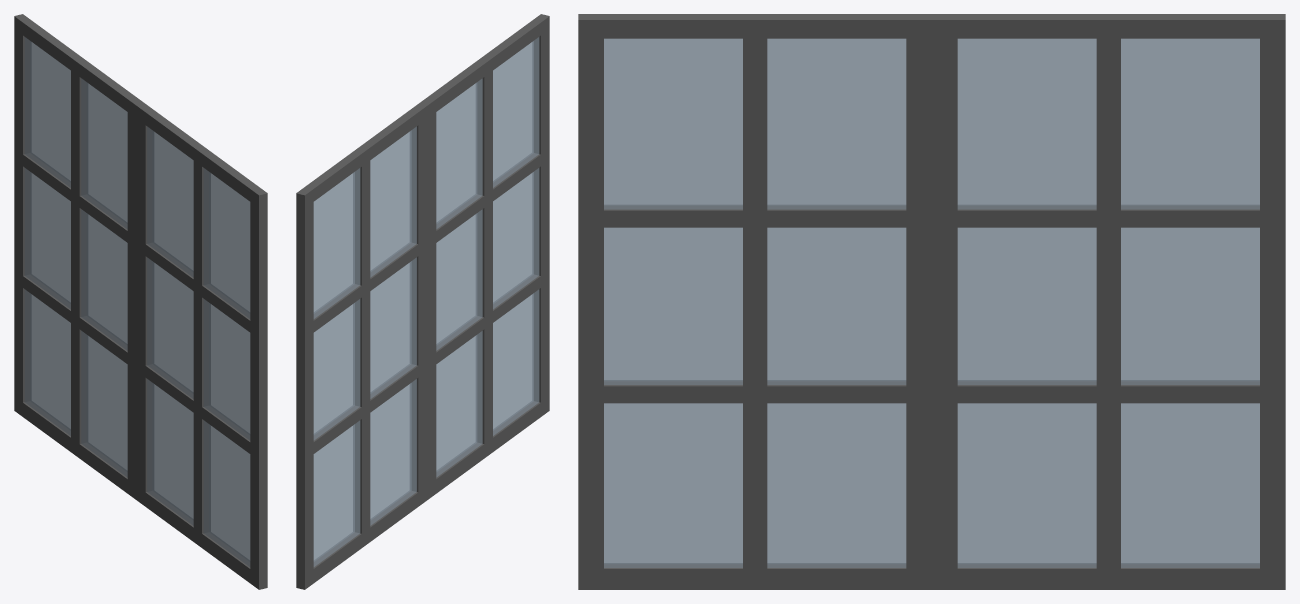
File: window(1).fbx
The picture shows the model from 3 angles, left to right: view 1: azimuth 30°, elevation 25°; view 2: azimuth 150°, elevation 25°; view 3: azimuth 270°, elevation 25°; orthographic projection. The views are drawn at different scales.
Parts seen in each view (by area): view 1: glass, window frame; view 2: glass, window frame; view 3: glass, window frame.
Part boxes in pixels (x1,y1,x2,y2): glass: (24,37,250,566); window frame: (14,14,267,589); glass: (313,37,539,566); window frame: (296,14,549,589); glass: (604,38,1259,567); window frame: (578,14,1285,589).
Bounding box in the file's own units: 10.77 × 466 × 525.
